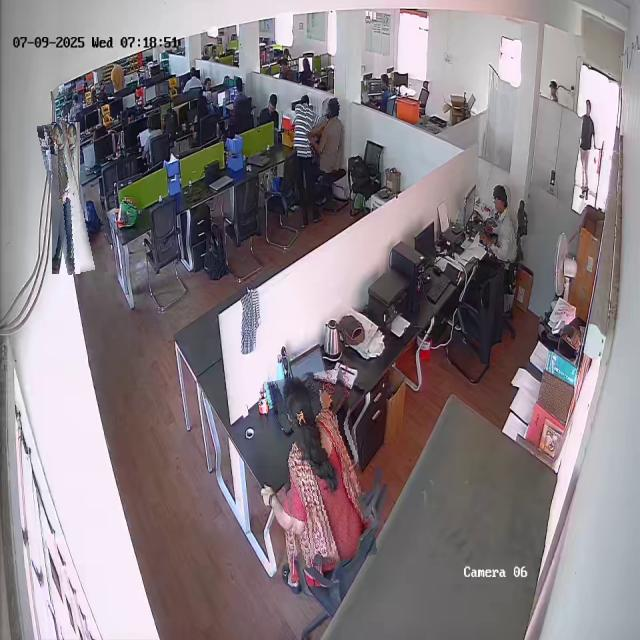person: (272, 371, 369, 566), (45, 122, 87, 275), (292, 95, 322, 225), (481, 183, 521, 265), (315, 96, 347, 175)
